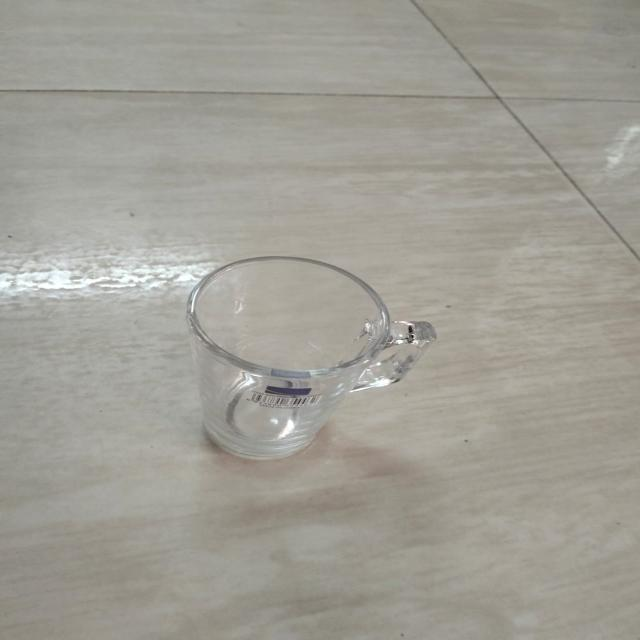glass-VX4N: (183, 255, 434, 477)
